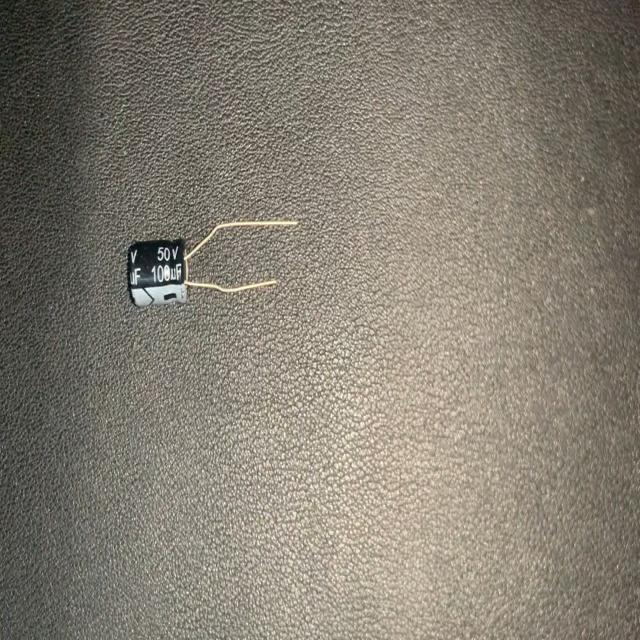capacitor: (122, 214, 308, 312)
